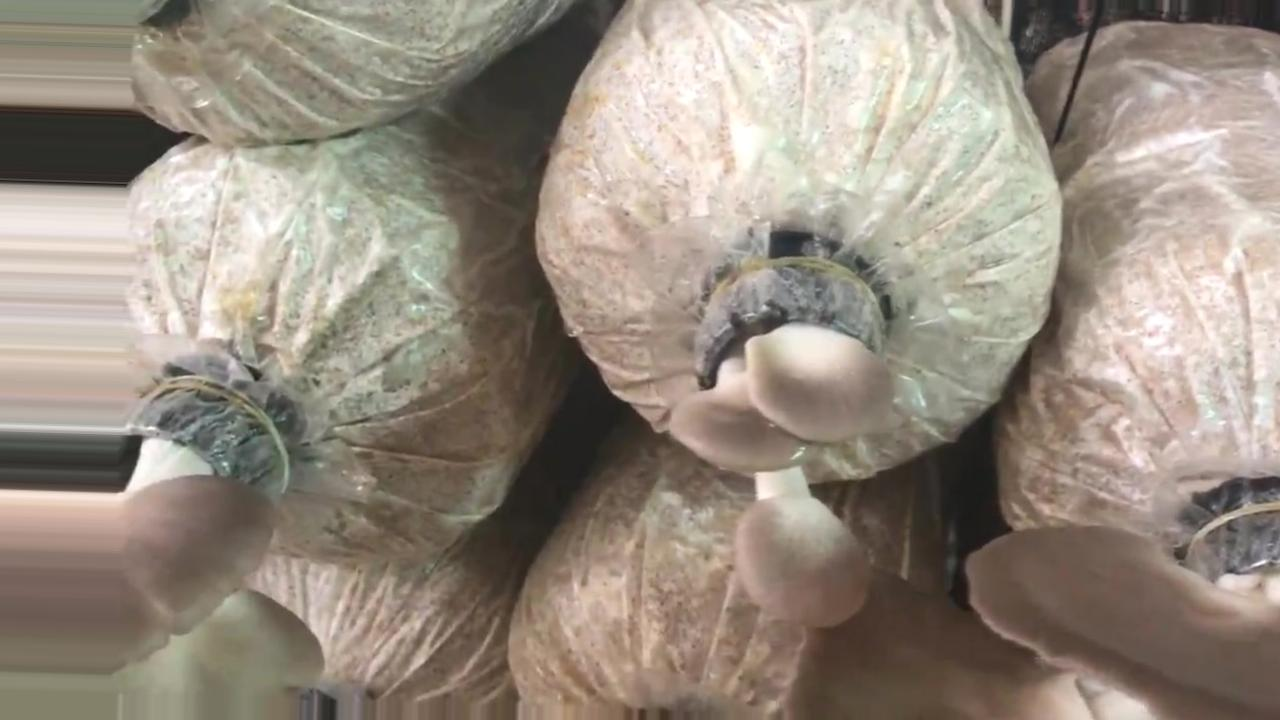nam: (790, 490, 1279, 720), (1, 384, 324, 720), (674, 262, 890, 623)
